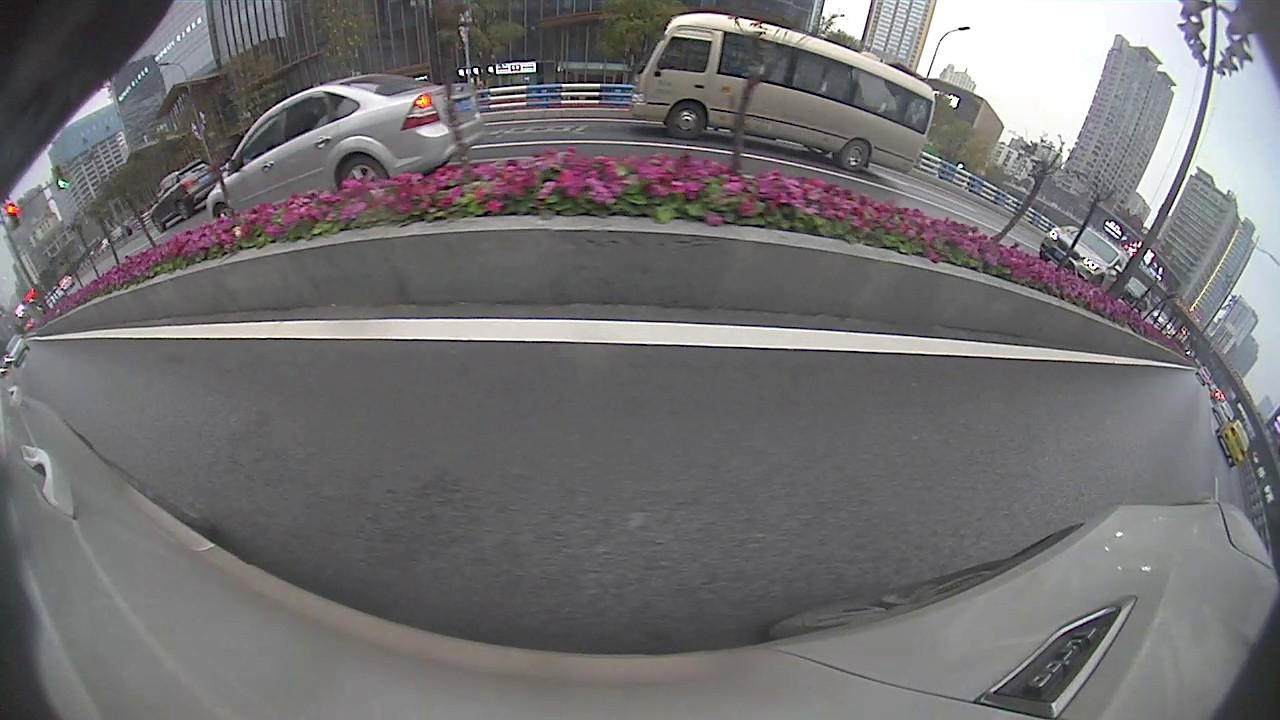bus: (630, 12, 934, 176)
car: (204, 72, 487, 234), (1214, 419, 1251, 470)
front: (666, 98, 709, 144), (215, 201, 239, 219)
rear: (333, 154, 389, 189), (837, 138, 873, 173)
